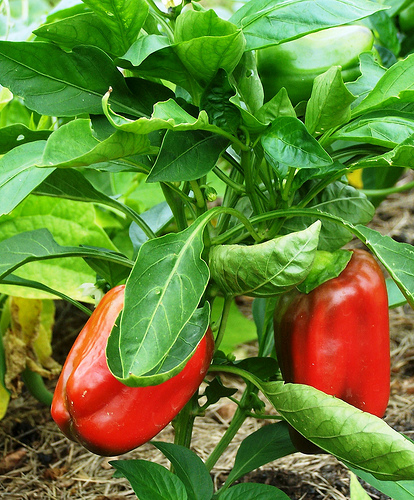capsicum: (50, 285, 213, 458), (276, 247, 391, 422)
